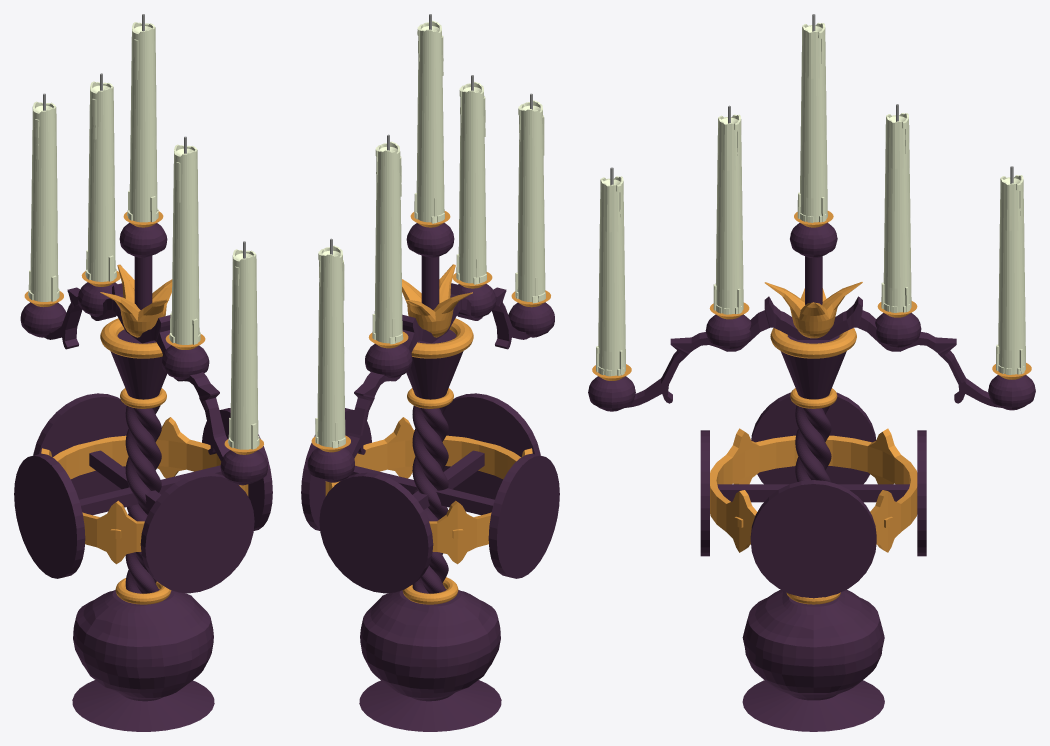
The model's file is CandleHolder_Prot_0.2.fbx.
3 views of the same model, side by side, from view 1: azimuth 30°, elevation 25°; view 2: azimuth 150°, elevation 25°; view 3: azimuth 270°, elevation 25° (orthographic).
Visible parts, largest first — view 1: Plato.001, Sphere, Plato.000, Cylinder, Cylinder.010, Cylinder.012, Cylinder.004, Cylinder.006, Cylinder.014, Base, Circle, Cube (+13 smaller); view 2: Plato.001, Sphere, Plato.000, Cylinder, Cylinder.006, Cylinder.004, Cylinder.014, Cylinder.012, Cylinder.010, Base, Circle, Cube (+13 smaller); view 3: Plato.000, Sphere, Cylinder, Cube, Cylinder.006, Cylinder.014, Cylinder.004, Cylinder.010, Cylinder.012, Base, Plato.001, Circle (+10 smaller).
Part boxes in pixels (box(x1,y1,x2,y2)): Plato.001: box(33, 393, 254, 593); Sphere: box(73, 589, 213, 701); Plato.000: box(14, 408, 272, 578); Cylinder: box(41, 417, 248, 564); Cylinder.010: box(27, 101, 59, 301); Cylinder.012: box(228, 249, 259, 449); Cylinder.004: box(127, 22, 158, 222); Cylinder.006: box(85, 81, 116, 281); Cylinder.014: box(169, 144, 200, 344); Base: box(72, 680, 214, 731); Circle: box(125, 405, 161, 593); Cube: box(44, 283, 229, 460); Plato.001: box(319, 393, 540, 593); Sphere: box(360, 589, 500, 701); Plato.000: box(301, 408, 559, 578); Cylinder: box(325, 417, 532, 564); Cylinder.006: box(372, 141, 403, 344); Cylinder.004: box(414, 20, 444, 223); Cylinder.014: box(456, 81, 486, 284); Cylinder.012: box(515, 100, 545, 303); Cylinder.010: box(315, 245, 345, 448); Base: box(359, 680, 501, 731); Circle: box(412, 405, 448, 593); Cube: box(345, 283, 530, 458); Plato.000: box(750, 392, 876, 598); Sphere: box(742, 589, 884, 700); Cylinder: box(710, 428, 917, 552); Cube: box(625, 296, 1001, 407); Cylinder.006: box(881, 113, 911, 312); Cylinder.014: box(713, 114, 743, 314); Cylinder.004: box(797, 22, 827, 222); Cylinder.010: box(996, 175, 1025, 374); Cylinder.012: box(596, 176, 625, 376); Base: box(742, 680, 884, 731); Plato.001: box(700, 430, 926, 556); Circle: box(795, 405, 831, 482).
Bounding box in the file's own units: 199 × 667 × 394.
